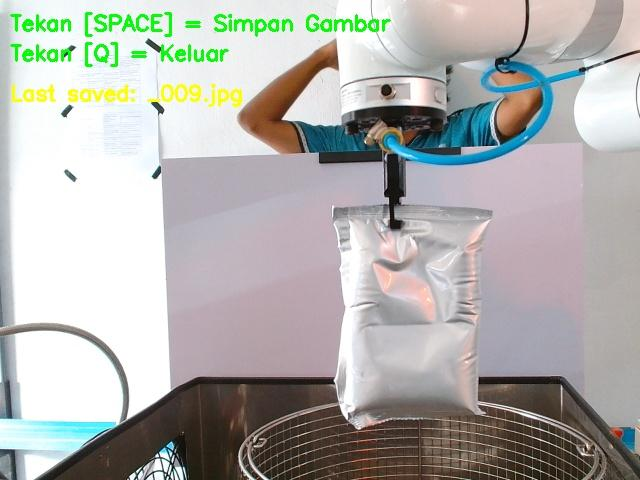retort-pouch: (328, 204, 492, 425)
